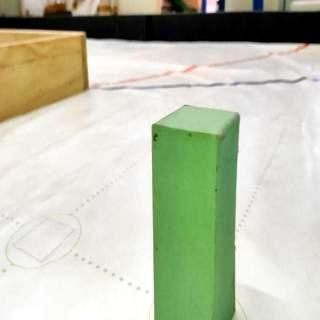greenbox: (150, 101, 242, 320)
